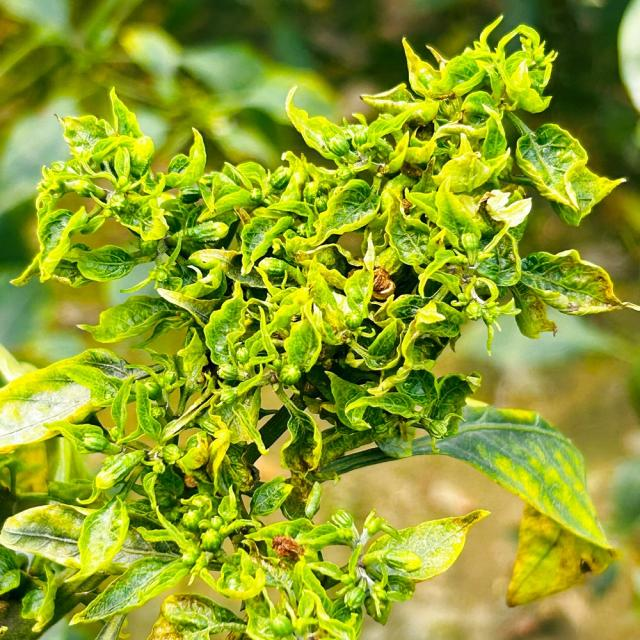Chilli_Leaf_Curl: (1, 13, 637, 638), (317, 396, 619, 606), (0, 346, 151, 454)
